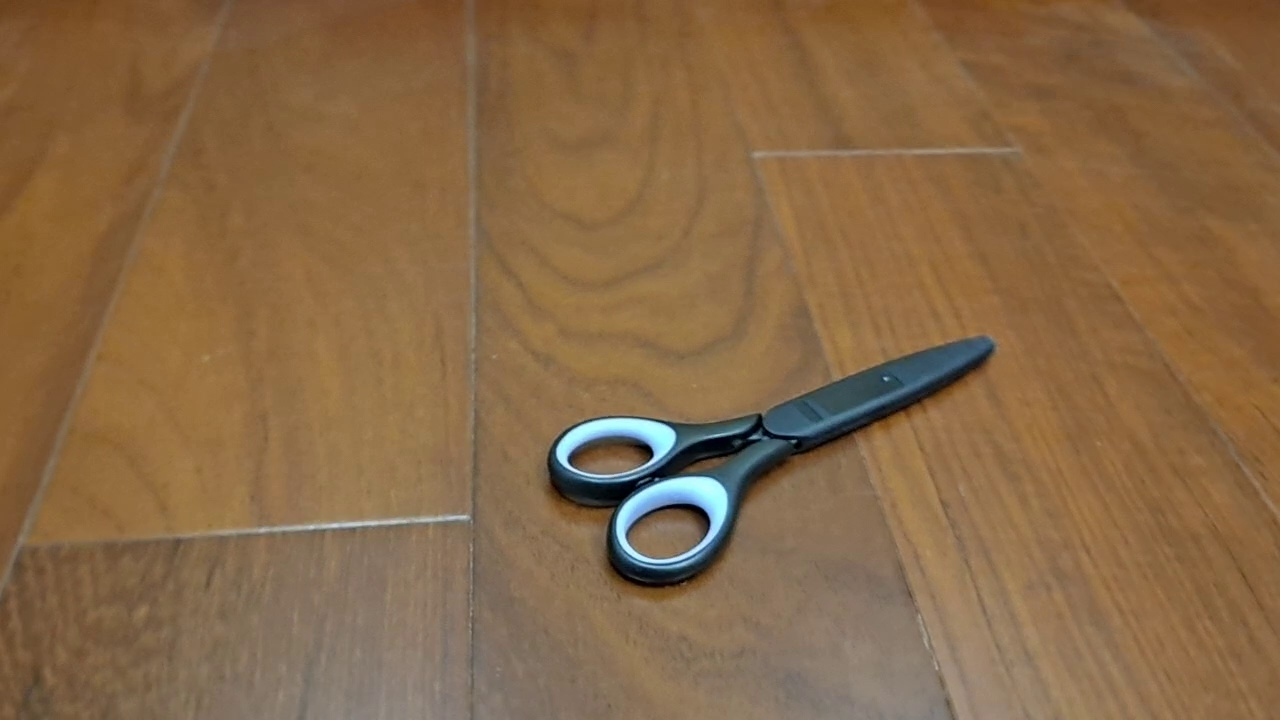scissors: (546, 333, 1000, 589)
